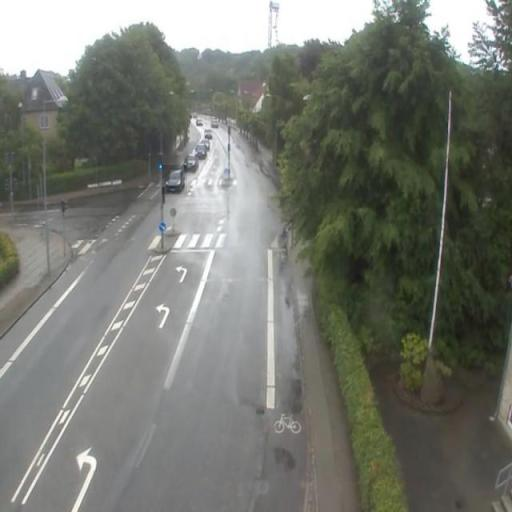小汽车: (162, 165, 187, 194)
